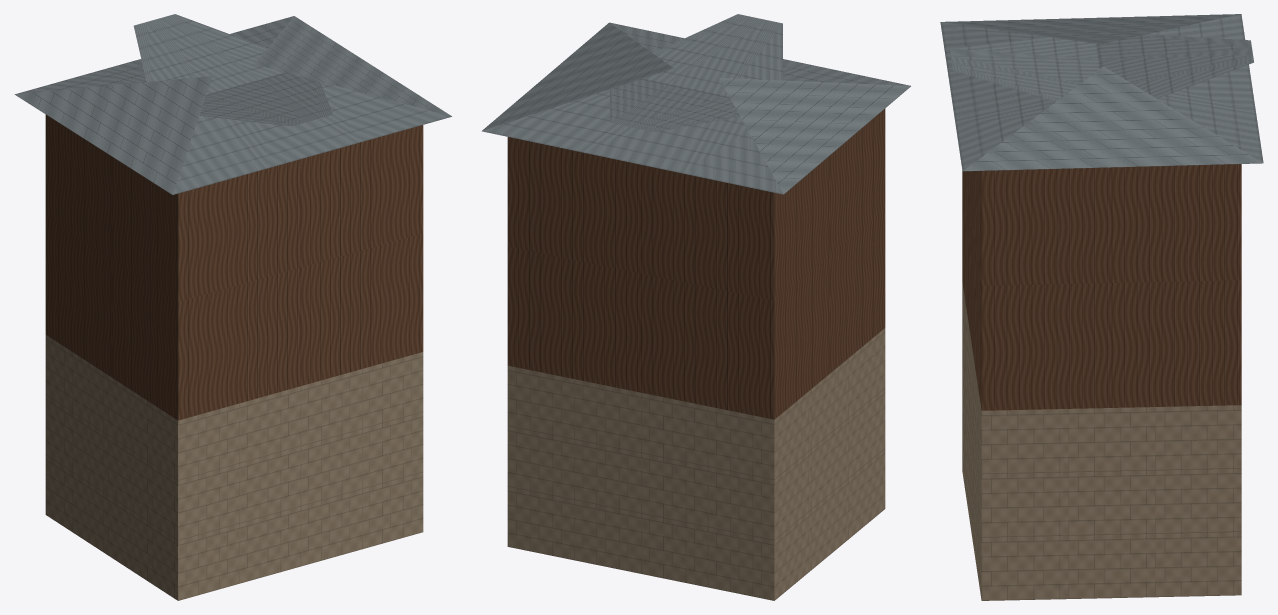
The model's file is bld_c6_38_529.gltf.
The picture shows the model from 3 angles, left to right: view 1: azimuth 30°, elevation 25°; view 2: azimuth 150°, elevation 25°; view 3: azimuth 270°, elevation 25°; orthographic projection. The views are drawn at different scales.
Parts seen in each view (by area): view 1: bld_c6_38_529; view 2: bld_c6_38_529; view 3: bld_c6_38_529.
Part boxes in pixels (x1,y1,x2,y2): bld_c6_38_529: (14,14,451,600); bld_c6_38_529: (482,14,910,600); bld_c6_38_529: (940,14,1263,600).
Size of the model in its own units: 9.05 by 12.8 by 7.86.
3 materials, 3 textured.
